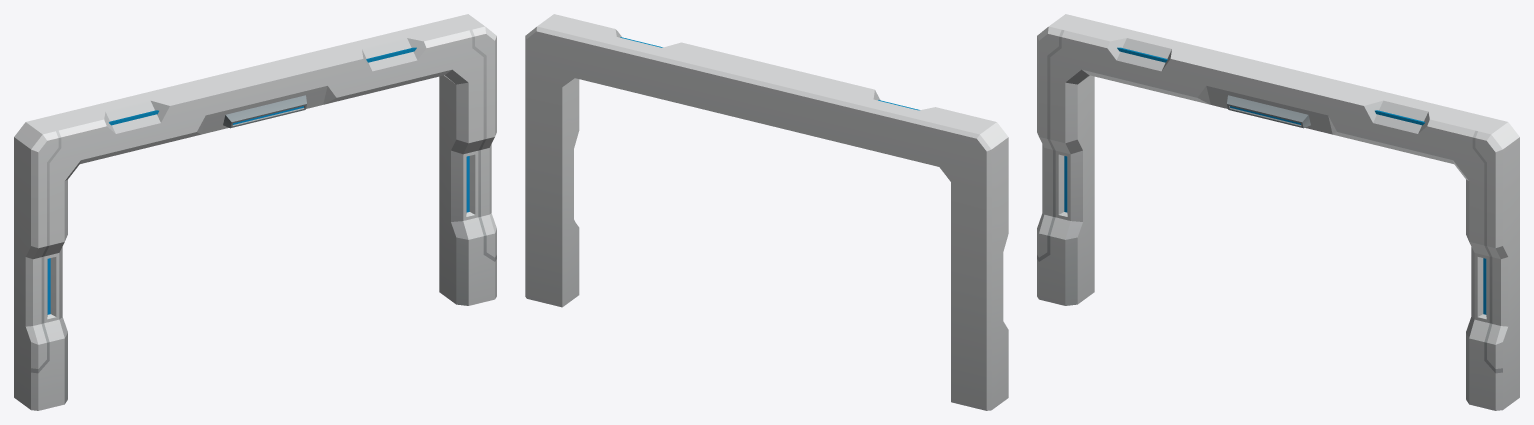
Rendered from Door_008.fbx.
3 views of the same model, side by side, from view 1: azimuth 30°, elevation 25°; view 2: azimuth 150°, elevation 25°; view 3: azimuth 330°, elevation 25° (orthographic).
Visible parts, largest first — view 1: Door_008; view 2: Door_008; view 3: Door_008.
Part boxes in pixels (x1,y1,x2,y2): Door_008: (14, 14, 496, 410); Door_008: (525, 14, 1008, 410); Door_008: (1037, 14, 1519, 410).
Bounding box in the file's own units: 600 × 54.07 × 336.
